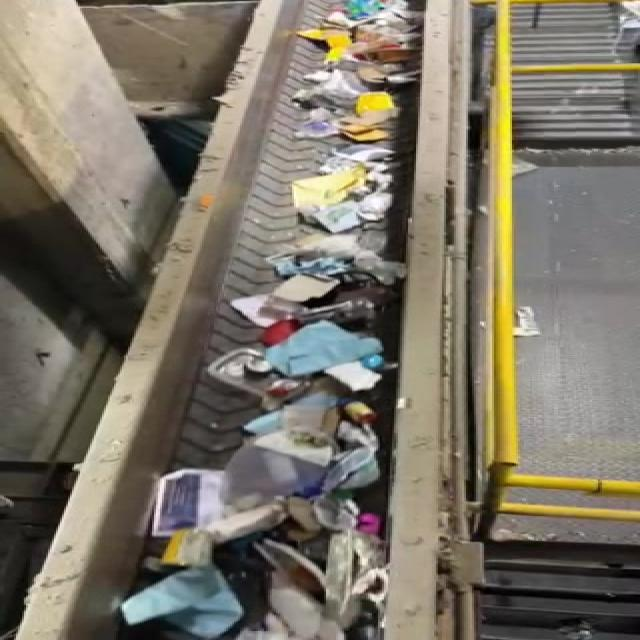metal: (328, 393, 395, 438)
paper: (117, 570, 251, 639), (305, 525, 402, 619), (140, 468, 229, 548), (252, 426, 346, 475)
